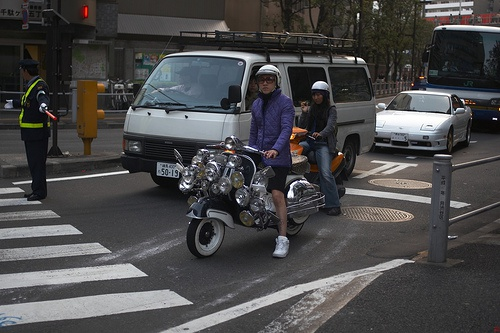non-vehicle: (174, 135, 325, 259), (289, 126, 346, 199)
